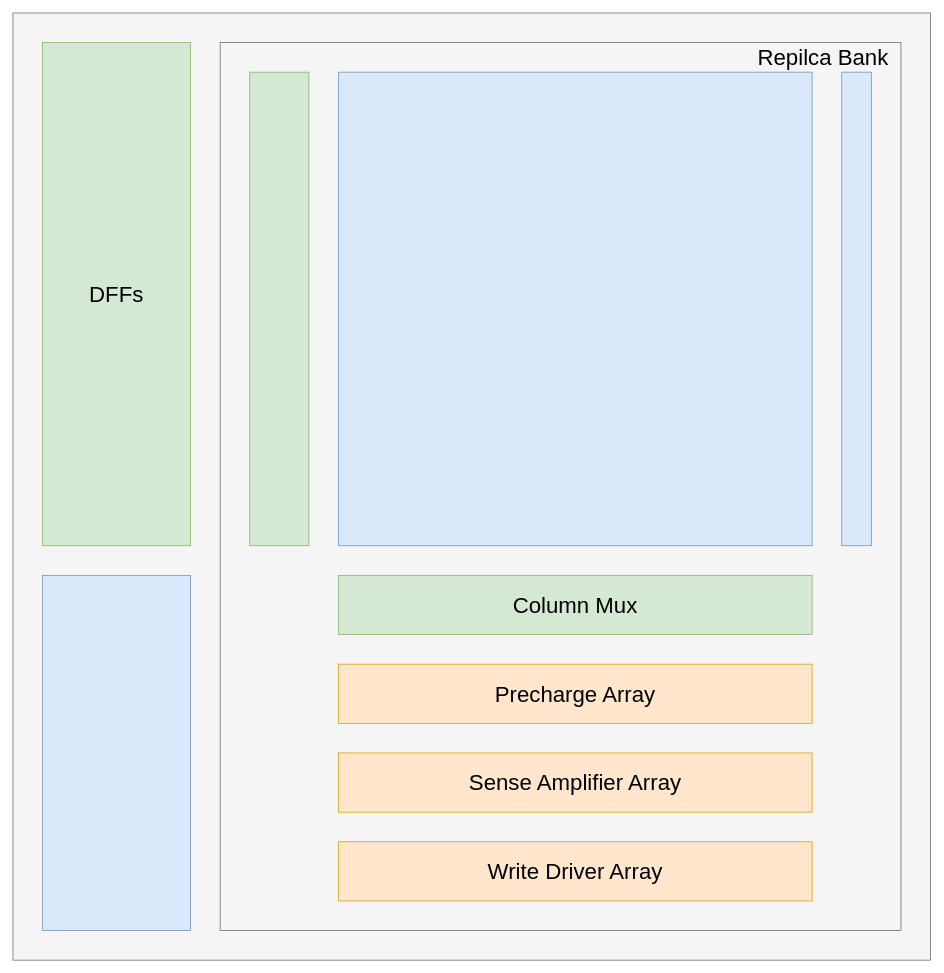
The diagram is 944 pixels wide and 973 high, and some of its shapes have lost their labels. The shapes that lost their labels are listed below. From the top down, each one's box as (x1, y1, x2, y2) in pixels, then its label:
(249, 71, 309, 546): Row Decoder
(338, 71, 812, 546): Bitcell Array
(42, 575, 191, 931): Control Logic
